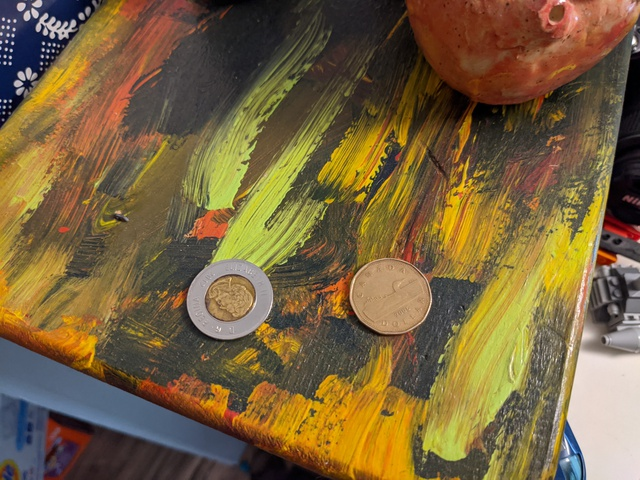loonie: (343, 254, 445, 339)
twonie: (184, 246, 274, 338)
